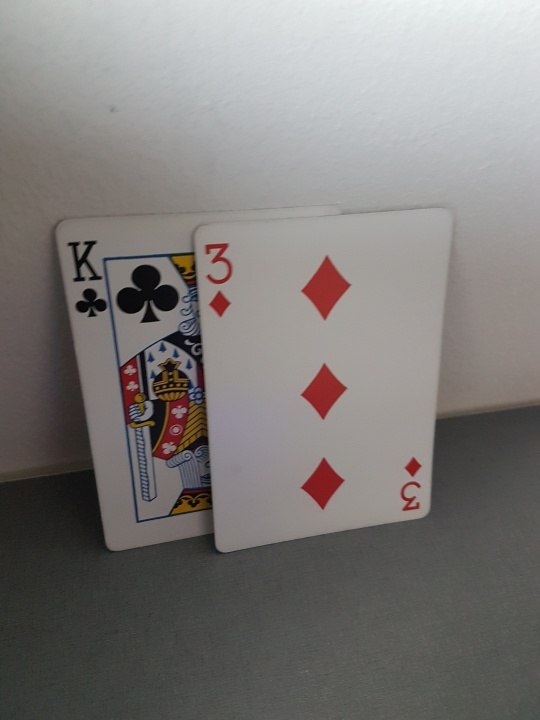3: (191, 201, 453, 554)
king: (49, 217, 214, 551)
